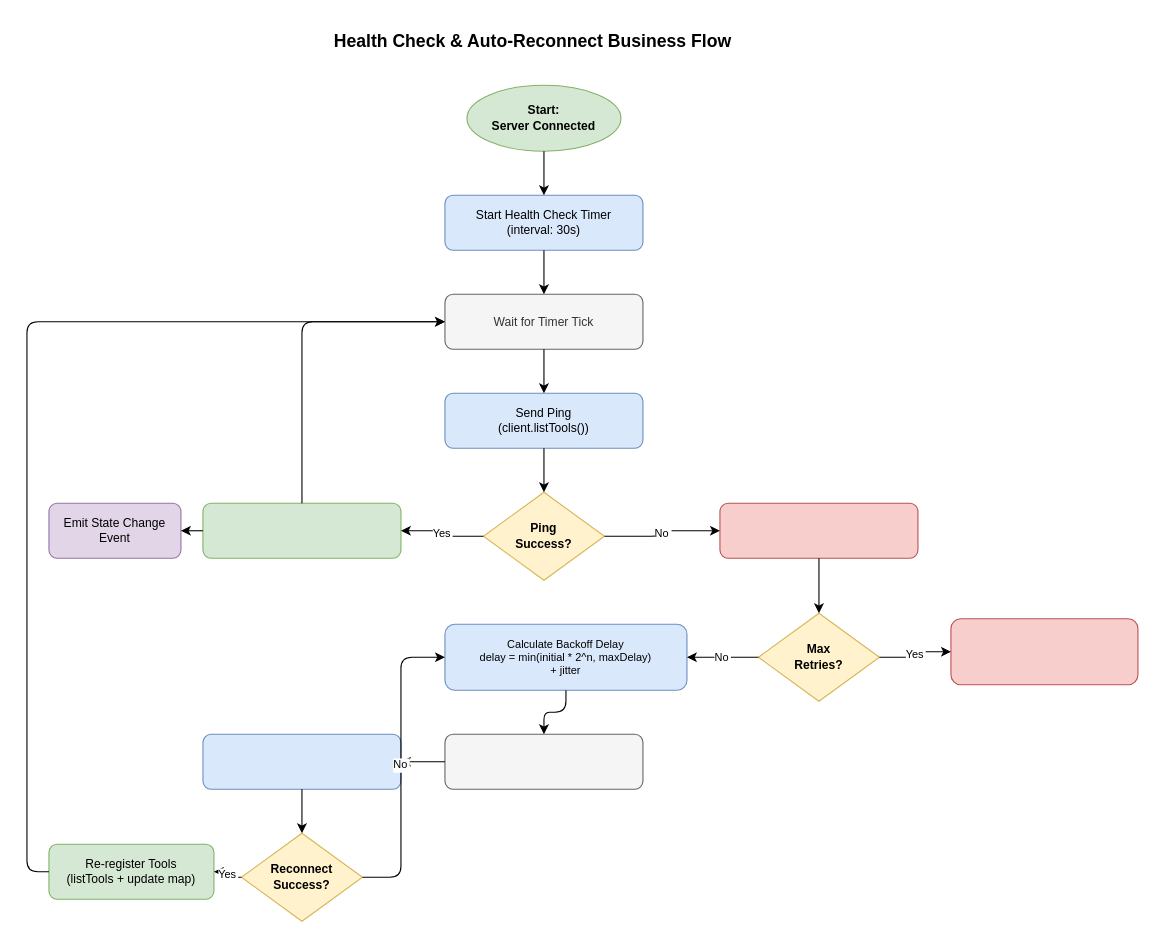
The diagram is 1157 pixels wide and 941 high, and some of its shapes have lost their labels. Here are the shapes that lost their labels. From the top down, the centre of each, then its label:
At pixel 301 530: "Mark: CONNECTED Reset failure counter".
At pixel 818 530: "Mark: UNHEALTHY Increment failure counter".
At pixel 1044 651: "Mark: FAILED Emit server:failed event Stop reconnect".
At pixel 301 761: "Attempt Reconnect (new transport + connect)".
At pixel 543 761: "Wait Backoff Duration".
